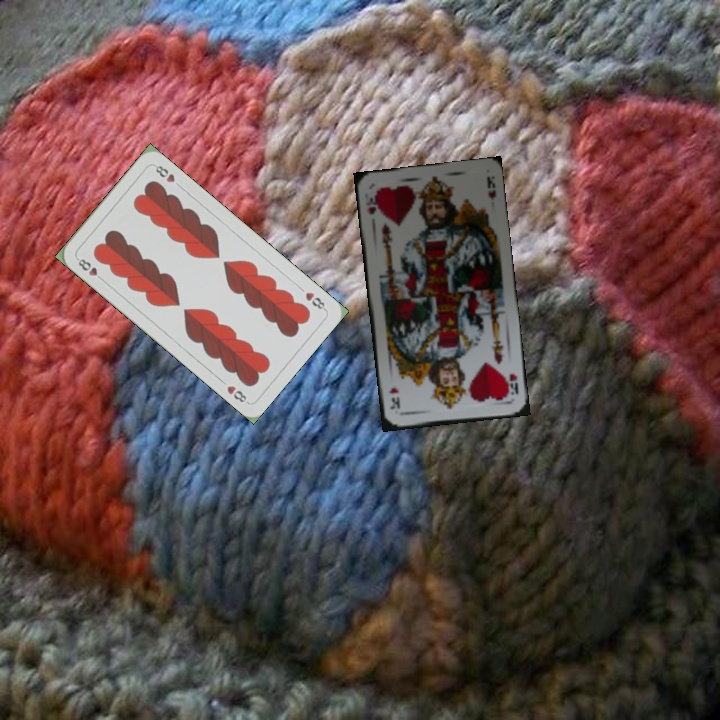H8: (73, 254, 107, 284), (301, 288, 329, 313)
HK: (501, 370, 521, 401), (361, 186, 380, 217)
